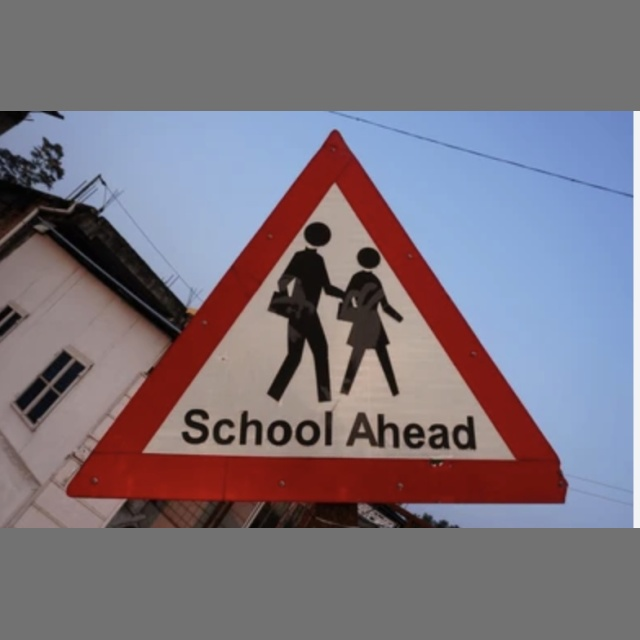Cattle: (149, 174, 494, 504)
